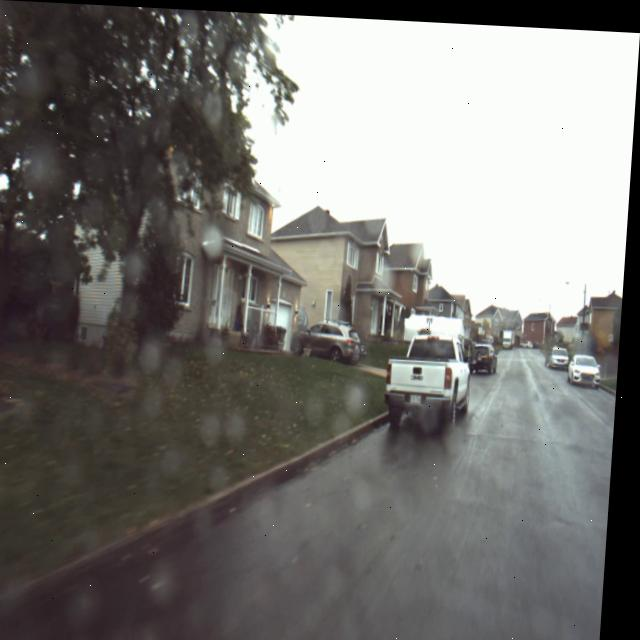car: (381, 307, 489, 455)
